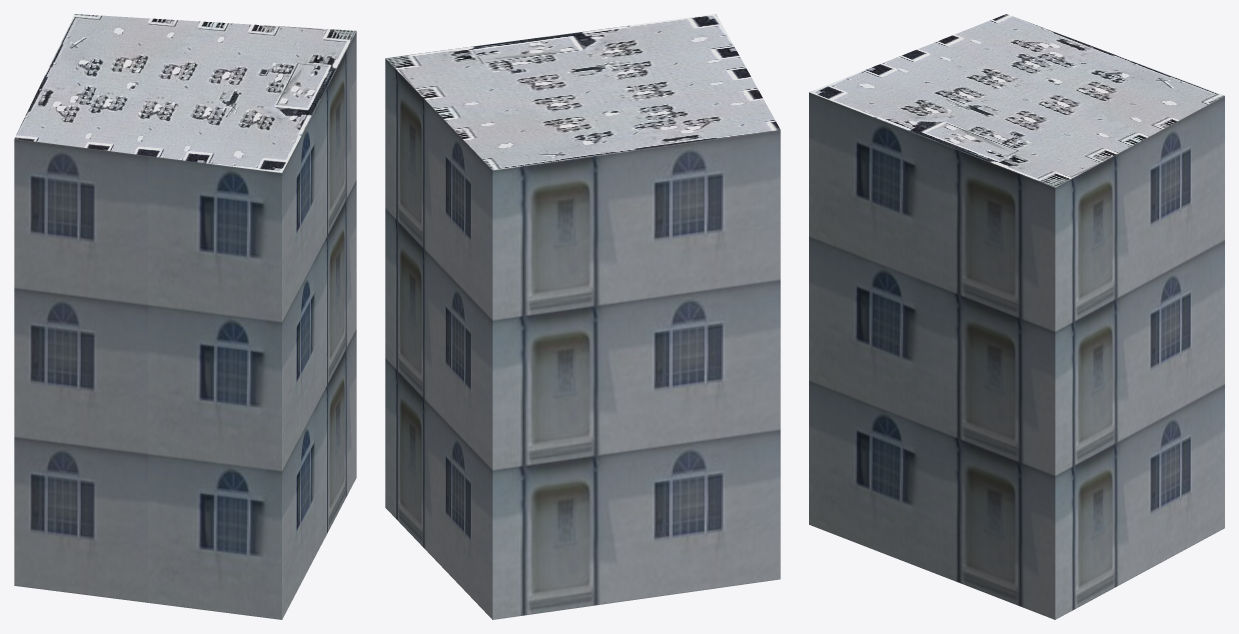
Rendered from ResTex__1041.fbx.
3 renders of one model, left to right at view 1: azimuth 30°, elevation 25°; view 2: azimuth 150°, elevation 25°; view 3: azimuth 270°, elevation 25°, orthographic. The views are drawn at different scales.
Visible parts, largest first — view 1: CityEngineMaterial_17_m, CityEngineMaterial_m; view 2: CityEngineMaterial_17_m, CityEngineMaterial_m; view 3: CityEngineMaterial_17_m, CityEngineMaterial_m.
Part boxes in pixels (x1,y1,x2,y2): CityEngineMaterial_17_m: [14, 31, 356, 619]; CityEngineMaterial_m: [14, 14, 356, 172]; CityEngineMaterial_17_m: [385, 58, 780, 619]; CityEngineMaterial_m: [385, 14, 780, 170]; CityEngineMaterial_17_m: [809, 92, 1224, 619]; CityEngineMaterial_m: [809, 14, 1224, 187].
Bounding box in the file's own units: 7.75 × 9 × 7.84.
2 materials, 2 textured.
